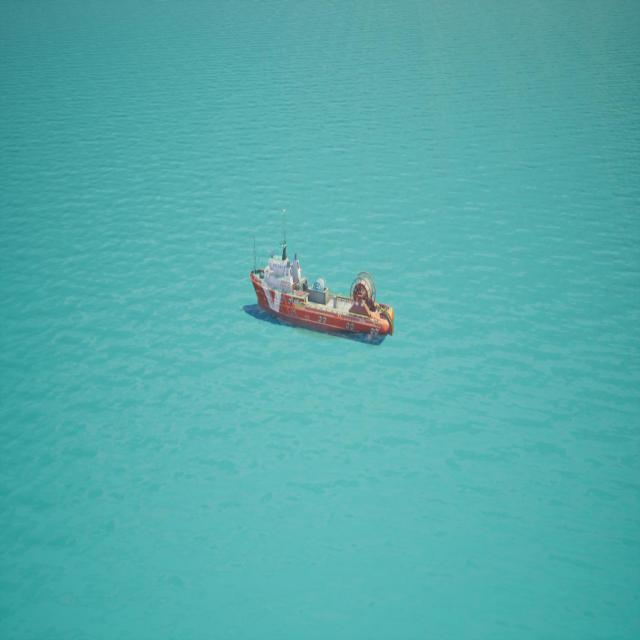tug boat: (247, 207, 393, 347)
